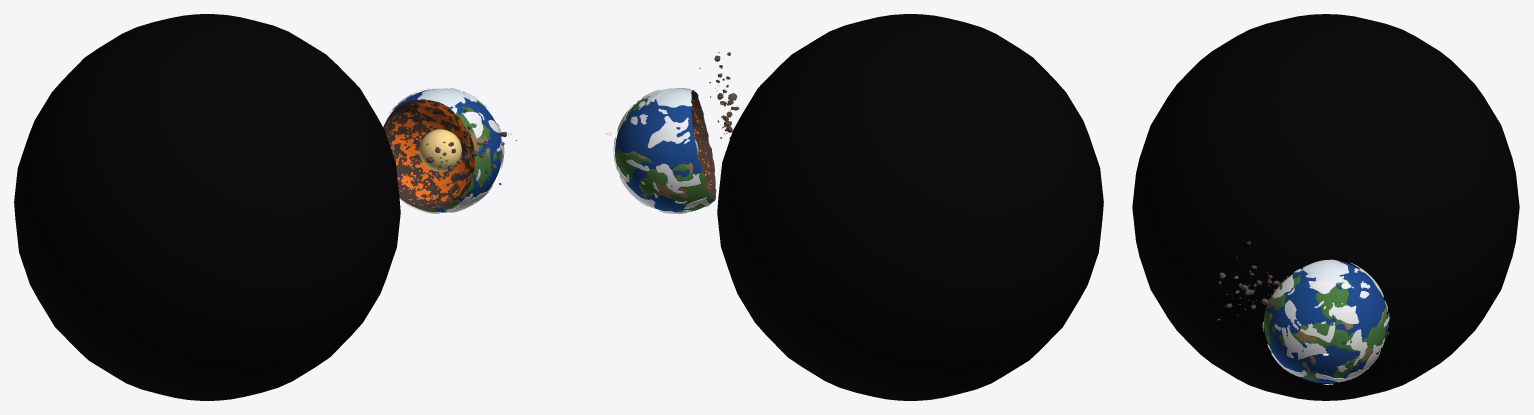
Rendered from IntroAssets.fbx.
3 views of the same model, side by side, from view 1: azimuth 30°, elevation 25°; view 2: azimuth 150°, elevation 25°; view 3: azimuth 270°, elevation 25° (orthographic).
Visible parts, largest first — view 1: SpaceDome__Void, ShatteredPlanet__Crust, ShatteredPlanet__Magma, ShatteredPlanet__Ocean_1, ShatteredPlanet__PlanetCore, ShatteredPlanet__Cloud_1, ShatteredPlanet__Land, ShatteredPlanet__Ice, ShatteredPlanet__Debris; view 2: SpaceDome__Void, ShatteredPlanet__Ocean_1, ShatteredPlanet__Cloud_2, ShatteredPlanet__Land, ShatteredPlanet__Ocean_2, ShatteredPlanet__Crust, ShatteredPlanet__Ice, ShatteredPlanet__Debris; view 3: SpaceDome__Void, ShatteredPlanet__Ocean_1, ShatteredPlanet__Land, ShatteredPlanet__Cloud_1, ShatteredPlanet__Cloud_2, ShatteredPlanet__Ice, ShatteredPlanet__LandDry, ShatteredPlanet__Debris, ShatteredPlanet__Ocean_2.
Boxes of the visible parts, left/top/right/bottom form: SpaceDome__Void: left=14, top=14, right=400, bottom=400; ShatteredPlanet__Crust: left=383, top=99, right=474, bottom=210; ShatteredPlanet__Magma: left=386, top=100, right=502, bottom=207; ShatteredPlanet__Ocean_1: left=387, top=88, right=501, bottom=212; ShatteredPlanet__PlanetCore: left=419, top=129, right=461, bottom=171; ShatteredPlanet__Cloud_1: left=399, top=88, right=504, bottom=213; ShatteredPlanet__Land: left=407, top=92, right=501, bottom=212; ShatteredPlanet__Ice: left=417, top=88, right=469, bottom=212; ShatteredPlanet__Debris: left=417, top=108, right=516, bottom=184; SpaceDome__Void: left=717, top=14, right=1103, bottom=400; ShatteredPlanet__Ocean_1: left=615, top=88, right=705, bottom=212; ShatteredPlanet__Cloud_2: left=613, top=103, right=707, bottom=214; ShatteredPlanet__Land: left=615, top=95, right=714, bottom=212; ShatteredPlanet__Ocean_2: left=620, top=130, right=688, bottom=204; ShatteredPlanet__Crust: left=691, top=90, right=716, bottom=200; ShatteredPlanet__Ice: left=646, top=88, right=692, bottom=212; ShatteredPlanet__Debris: left=699, top=52, right=739, bottom=138; SpaceDome__Void: left=1132, top=14, right=1519, bottom=400; ShatteredPlanet__Ocean_1: left=1266, top=260, right=1373, bottom=383; ShatteredPlanet__Land: left=1264, top=272, right=1388, bottom=380; ShatteredPlanet__Cloud_1: left=1262, top=275, right=1346, bottom=384; ShatteredPlanet__Cloud_2: left=1345, top=262, right=1389, bottom=380; ShatteredPlanet__Ice: left=1294, top=259, right=1348, bottom=284; ShatteredPlanet__LandDry: left=1267, top=289, right=1386, bottom=373; ShatteredPlanet__Debris: left=1217, top=241, right=1287, bottom=320; ShatteredPlanet__Ocean_2: left=1373, top=282, right=1387, bottom=354.
Bounding box in the file's own units: 301 × 200 × 200.
